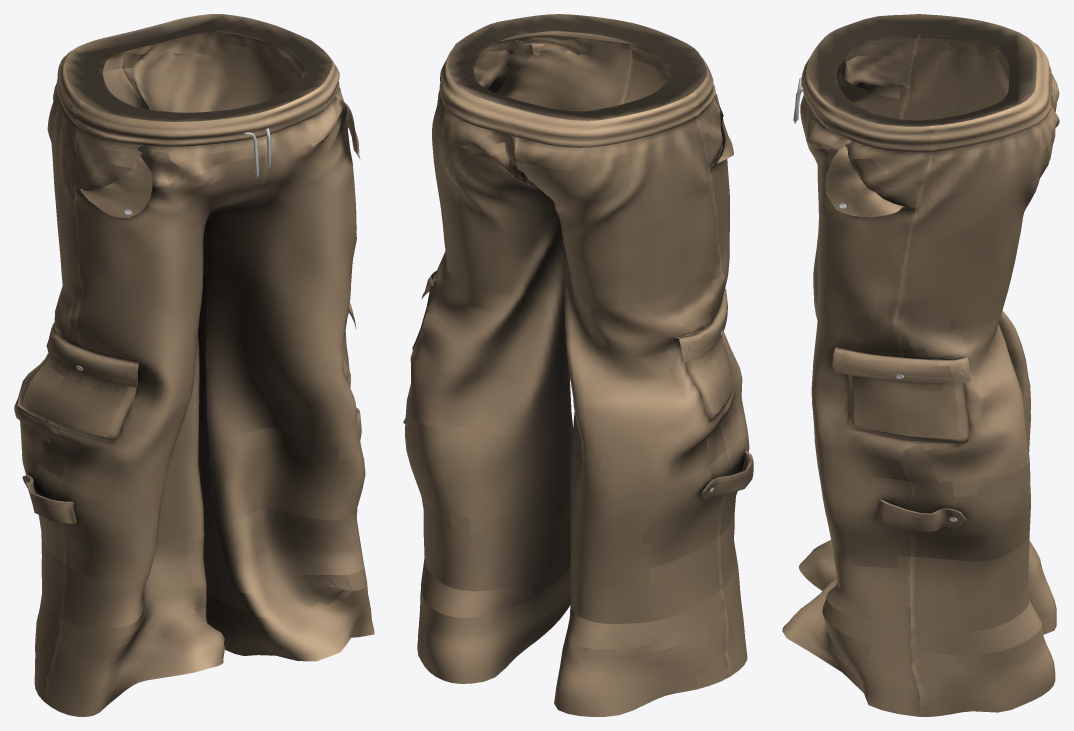
File: bottom5.glb
3 views of the same model, side by side, from view 1: azimuth 30°, elevation 25°; view 2: azimuth 150°, elevation 25°; view 3: azimuth 270°, elevation 25° (orthographic). The views are drawn at different scales.
Visible parts, largest first — view 1: s4studio_mesh_1; view 2: s4studio_mesh_1; view 3: s4studio_mesh_1.
Part boxes in pixels (x1,y1,x2,y2): s4studio_mesh_1: (14, 14, 374, 716); s4studio_mesh_1: (403, 14, 753, 716); s4studio_mesh_1: (782, 14, 1059, 716).
Bounding box in the file's own units: 0.2768 × 0.4779 × 0.2049.
1 material, 1 textured.
